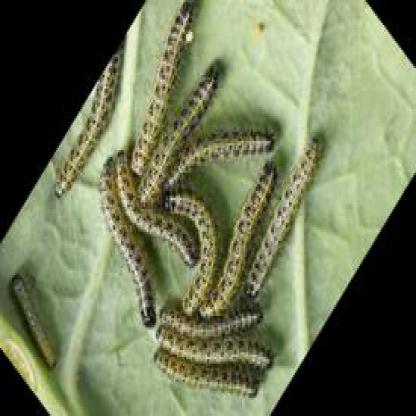pieris: (138, 58, 223, 207), (245, 136, 321, 298), (199, 164, 276, 322), (98, 150, 160, 326), (116, 150, 205, 267), (133, 2, 192, 173), (164, 191, 221, 314)
